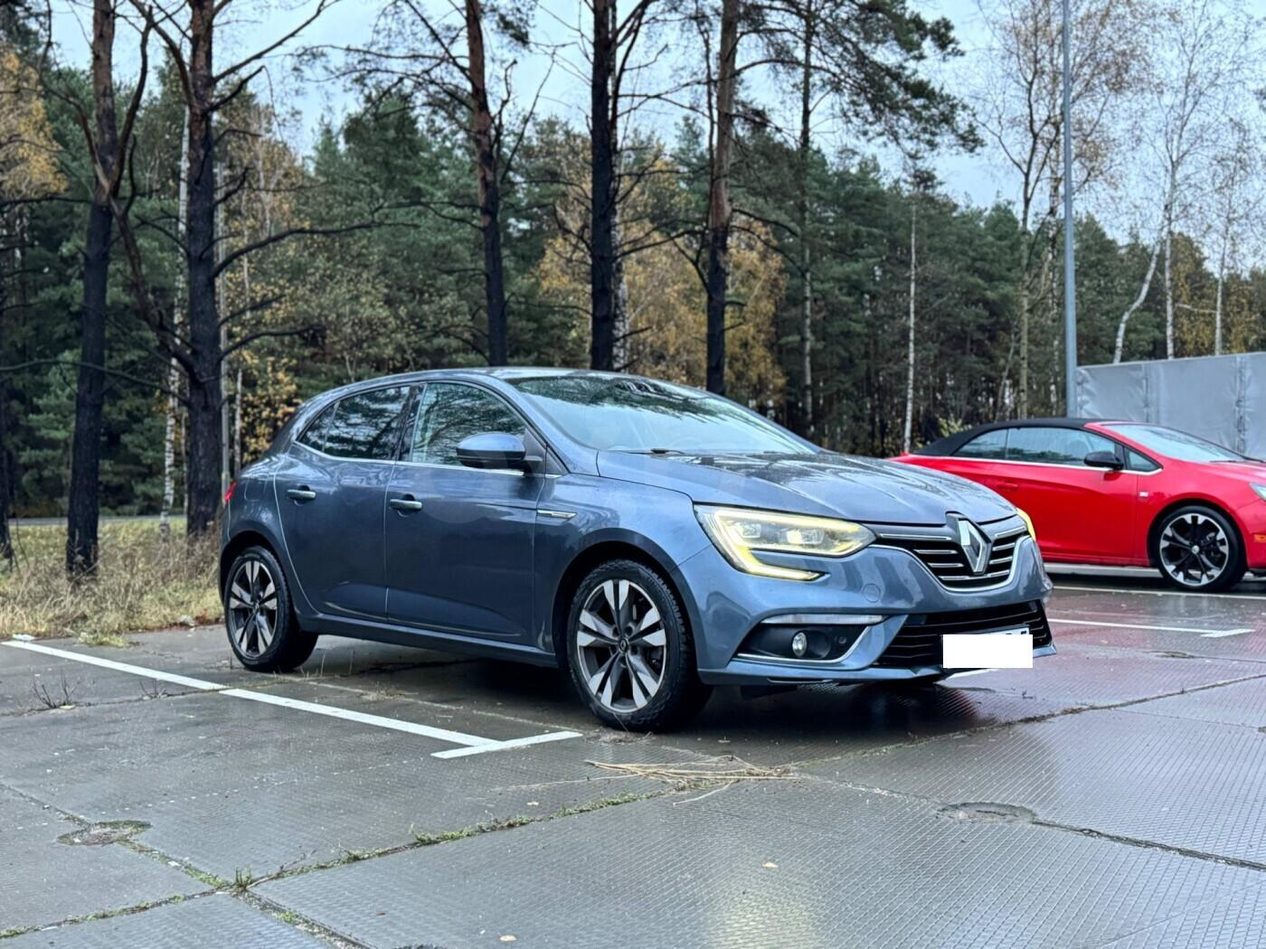Megane_2016-2020: (213, 354, 1068, 718)
